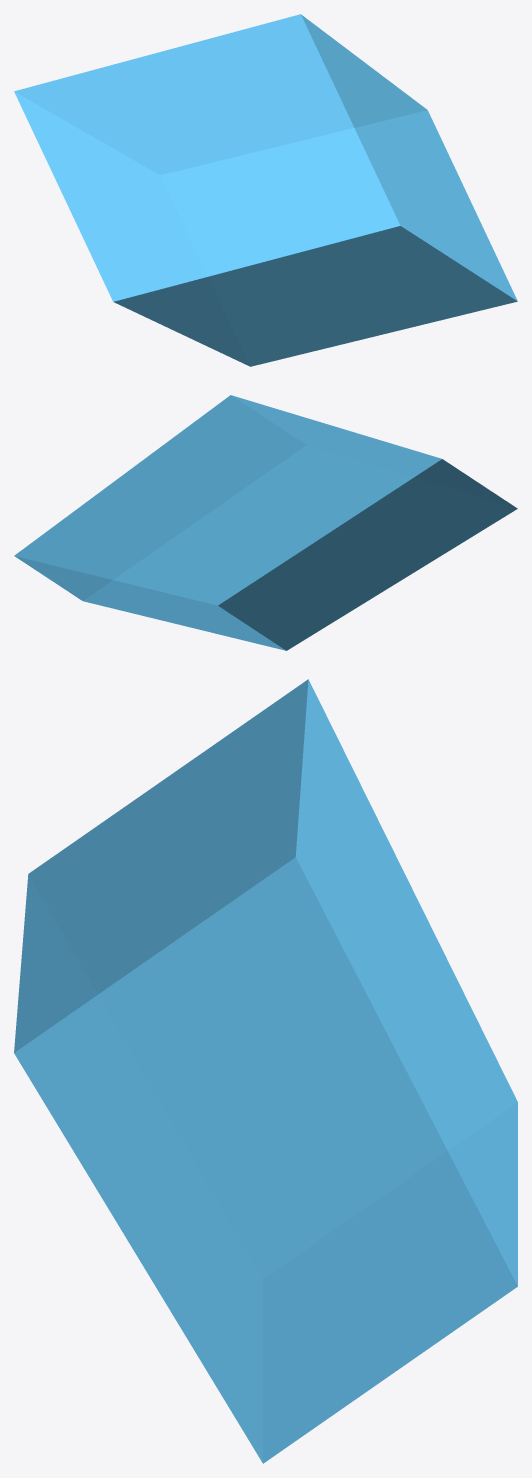
The model's file is Event_420107950_HBrechit_6.fbx.
The picture shows the model from 3 angles, top to bottom: view 1: azimuth 30°, elevation 25°; view 2: azimuth 150°, elevation 25°; view 3: azimuth 270°, elevation 25°; orthographic projection. The views are drawn at different scales.
Parts seen in each view (by area): view 1: Model; view 2: Model; view 3: Model.
Boxes of the visible parts, x1,y1,x2,y2 form: Model: (14, 14, 517, 366); Model: (14, 395, 517, 650); Model: (14, 679, 517, 1463).
Bounding box in the file's own units: 0.9949 × 0.6413 × 0.6301.
